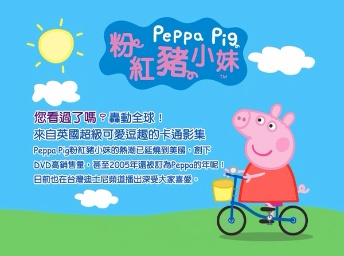Peppa: (221, 103, 310, 222)
